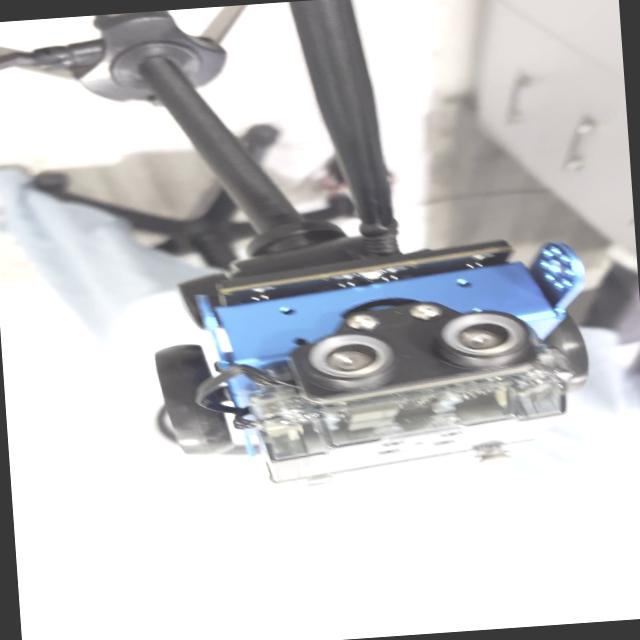mbot-detection: (119, 218, 613, 511)
